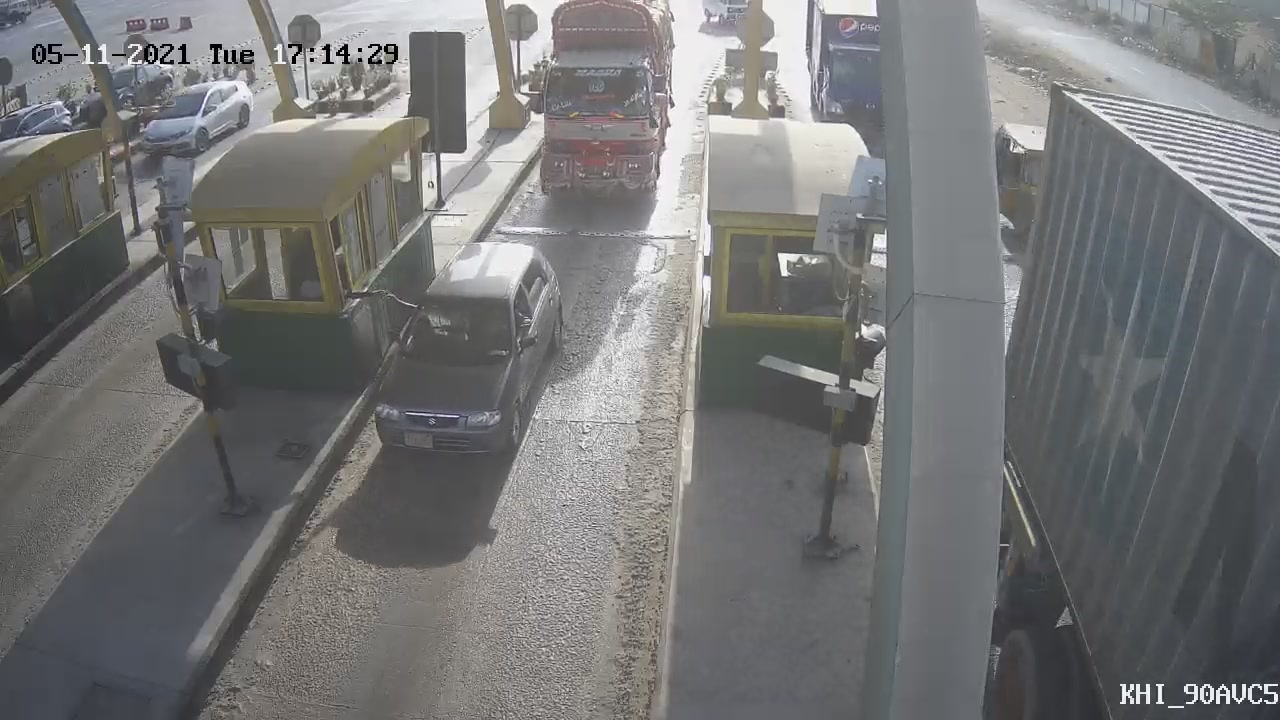F1: (338, 222, 589, 483)
